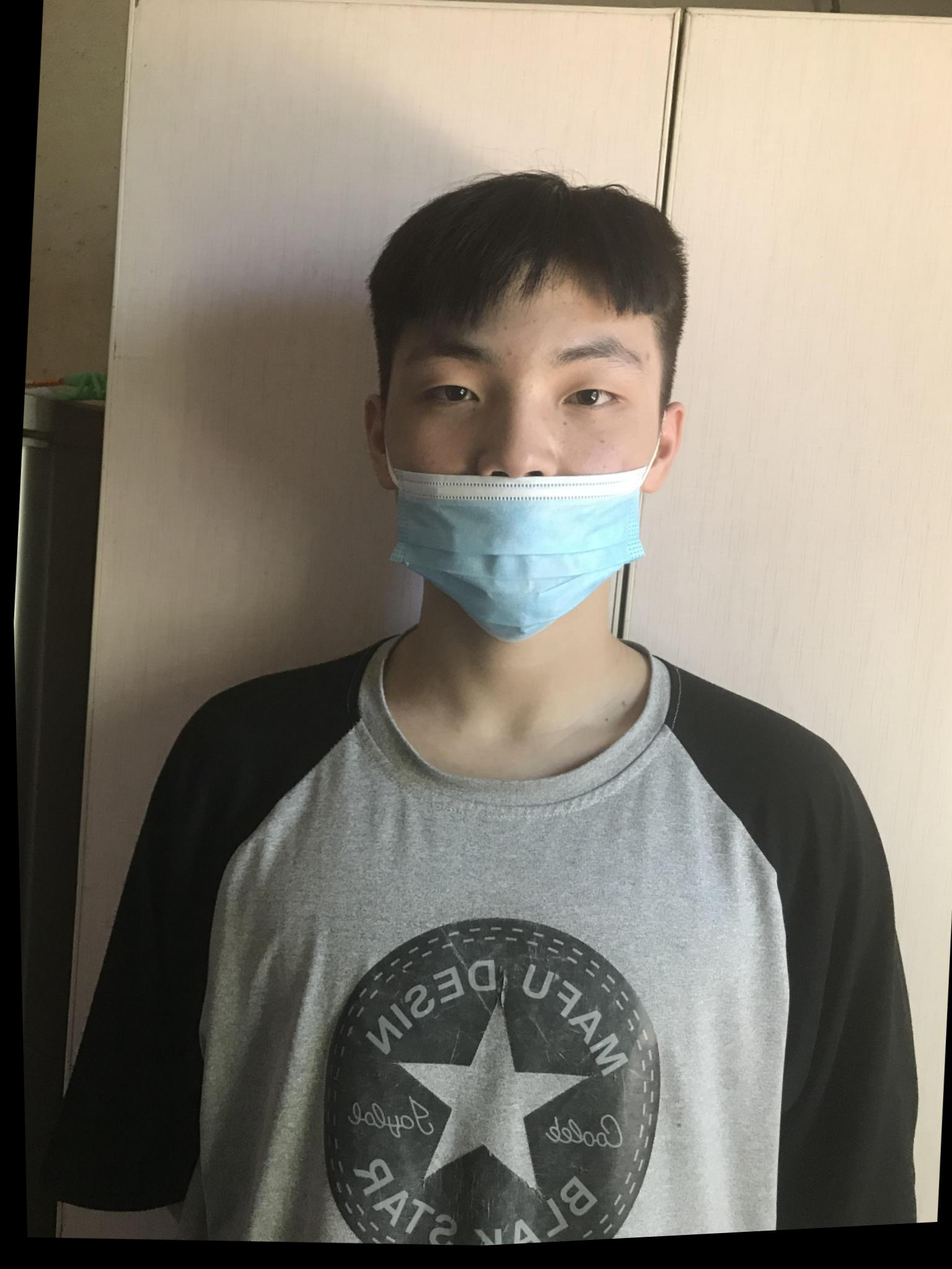WRONG: (365, 296, 668, 661)
